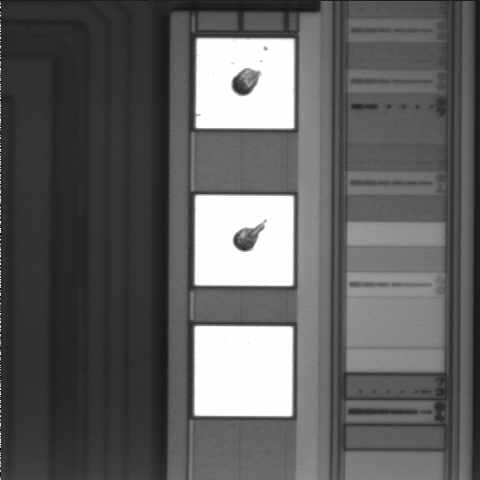pad: (195, 195, 294, 286), (196, 38, 294, 128), (195, 326, 293, 416)
